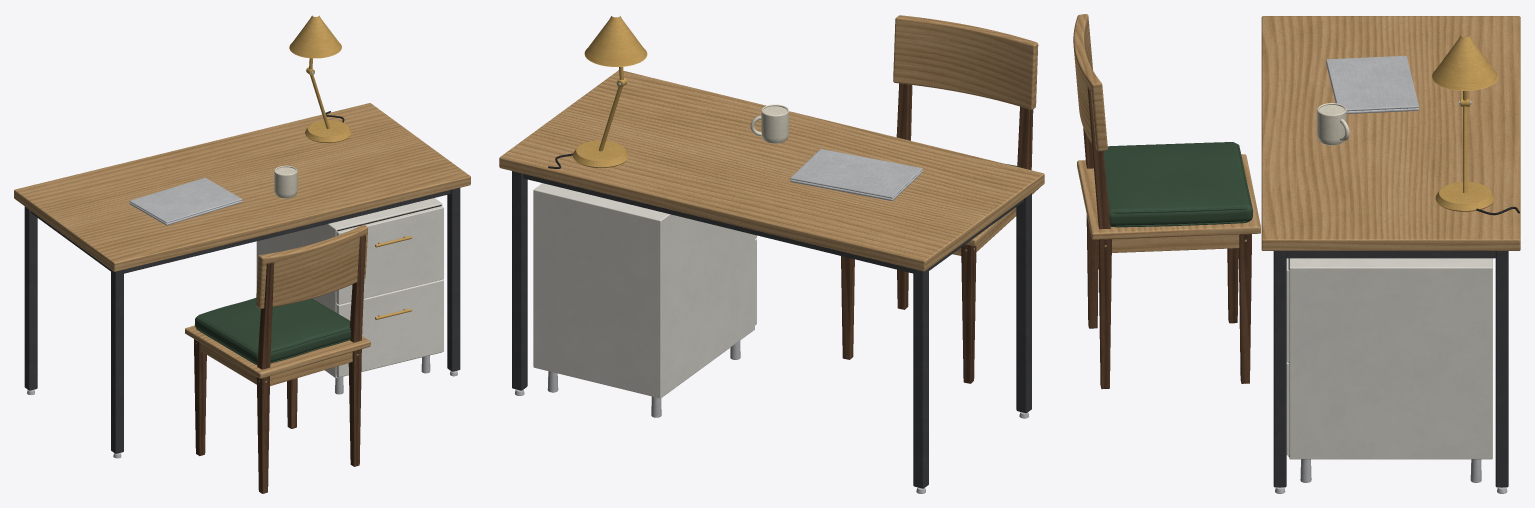
Rendered from noi-that-ban-lam-viec.glb.
3 renders of one model, left to right at view 1: azimuth 30°, elevation 25°; view 2: azimuth 150°, elevation 25°; view 3: azimuth 270°, elevation 25°, orthographic. The views are drawn at different scales.
Visible parts, largest first — view 1: DeskTop, Legs, Chair_pad, Drawer_1, Drawer_2, Chair_backrail, Chair_legs, Laptop, Pedestal, Chair_posts, Chair_seat, Frame (+4 smaller); view 2: DeskTop, Pedestal, Legs, Chair_backrail, Laptop, Chair_legs, Frame, LampShade, Chair_posts, Lamp, Mug, PedestalFeet; view 3: DeskTop, Pedestal, Chair_pad, Legs, Chair_legs, Laptop, Chair_seat, Chair_backrail, LampShade, Lamp, Chair_frame, Frame (+3 smaller).
Part boxes in pixels (x1=…): DeskTop: x1=14, y1=103, x2=470, y2=271; Legs: x1=24, y1=188, x2=460, y2=453; Chair_pad: x1=195, y1=298, x2=350, y2=364; Drawer_1: x1=336, y1=279, x2=443, y2=377; Drawer_2: x1=336, y1=206, x2=443, y2=304; Chair_backrail: x1=256, y1=224, x2=367, y2=308; Chair_legs: x1=194, y1=339, x2=361, y2=493; Laptop: x1=129, y1=177, x2=242, y2=225; Pedestal: x1=256, y1=198, x2=442, y2=378; Chair_posts: x1=257, y1=234, x2=365, y2=369; Chair_seat: x1=185, y1=325, x2=370, y2=378; Frame: x1=31, y1=190, x2=450, y2=273; DeskTop: x1=499, y1=70, x2=1044, y2=271; Pedestal: x1=533, y1=183, x2=754, y2=398; Legs: x1=512, y1=171, x2=1031, y2=488; Chair_backrail: x1=893, y1=15, x2=1038, y2=109; Laptop: x1=790, y1=149, x2=922, y2=200; Chair_legs: x1=841, y1=244, x2=976, y2=383; Frame: x1=523, y1=174, x2=1023, y2=273; LampShade: x1=584, y1=16, x2=647, y2=66; Chair_posts: x1=896, y1=83, x2=1033, y2=170; Lamp: x1=573, y1=67, x2=628, y2=167; Mug: x1=750, y1=104, x2=788, y2=143; PedestalFeet: x1=547, y1=340, x2=740, y2=417; DeskTop: x1=1261, y1=16, x2=1520, y2=250; Pedestal: x1=1289, y1=258, x2=1492, y2=459; Chair_pad: x1=1093, y1=142, x2=1252, y2=227; Legs: x1=1273, y1=251, x2=1508, y2=487; Chair_legs: x1=1086, y1=215, x2=1251, y2=389; Laptop: x1=1326, y1=55, x2=1418, y2=113; Chair_seat: x1=1077, y1=154, x2=1260, y2=239; Chair_backrail: x1=1073, y1=14, x2=1107, y2=151; LampShade: x1=1432, y1=35, x2=1498, y2=90; Lamp: x1=1435, y1=91, x2=1494, y2=211; Chair_frame: x1=1112, y1=234, x2=1239, y2=252; Frame: x1=1286, y1=251, x2=1495, y2=258.
Bounding box in the file's own units: 1.4 × 1.21 × 1.18.
12 materials, 12 textured.
